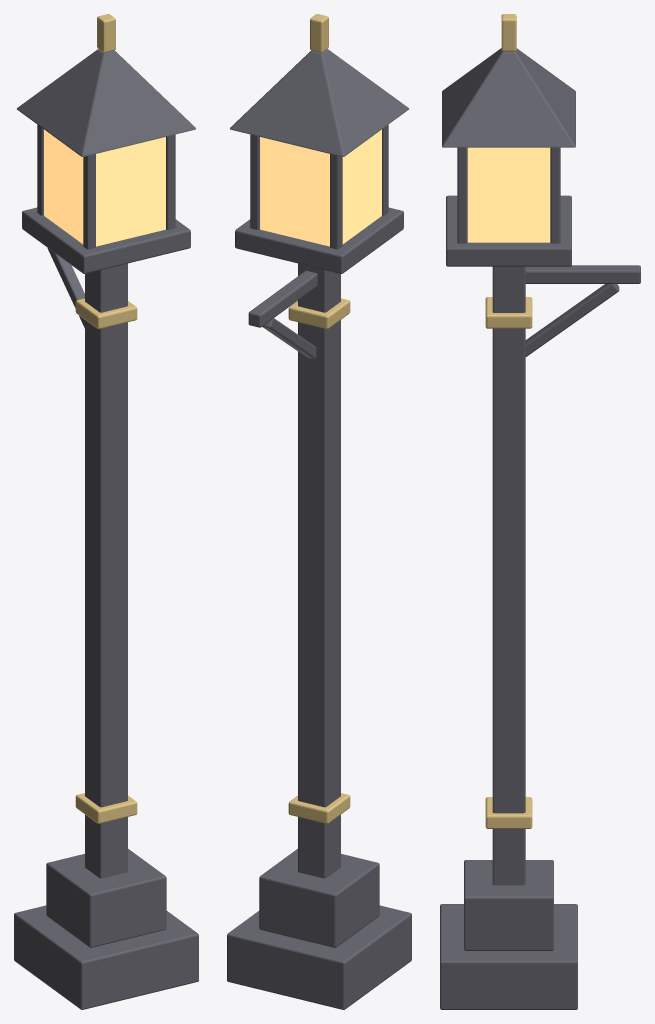
The model's file is iron-lantern.glb.
3 renders of one model, left to right at view 1: azimuth 30°, elevation 25°; view 2: azimuth 150°, elevation 25°; view 3: azimuth 270°, elevation 25°, orthographic.
Visible parts, largest first — view 1: iron-lantern; view 2: iron-lantern; view 3: iron-lantern.
Part boxes in pixels (left/top/right/bottom): iron-lantern: left=14, top=14, right=198, bottom=1009; iron-lantern: left=227, top=14, right=411, bottom=1009; iron-lantern: left=440, top=14, right=640, bottom=1009.
Size of the model in its own units: 0.46 by 3.55 by 0.67.
